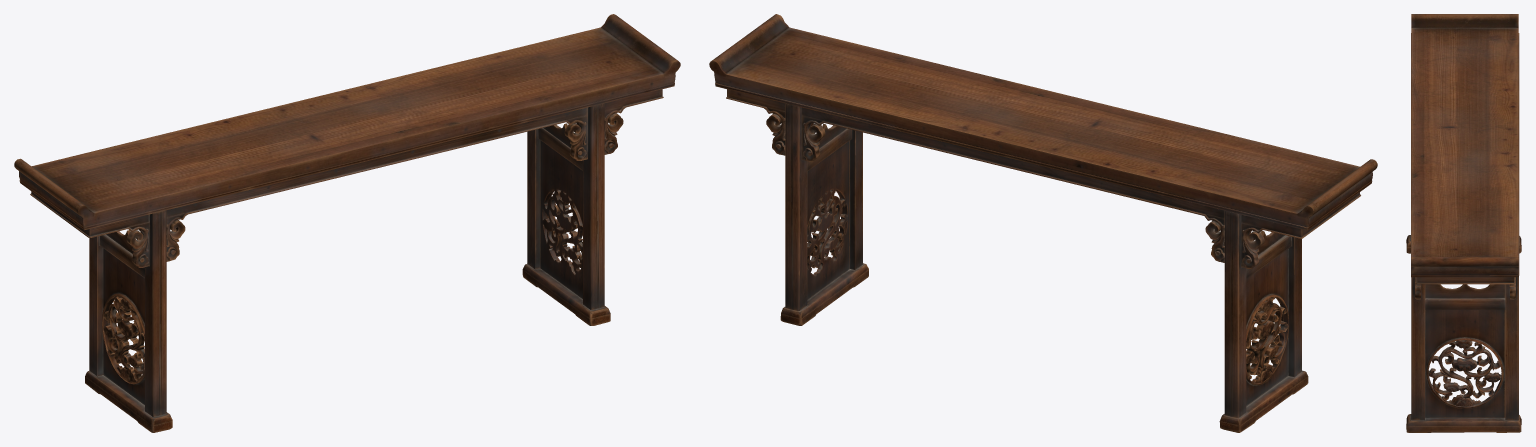
File: chinese_console_table.glb
3 views of the same model, side by side, from view 1: azimuth 30°, elevation 25°; view 2: azimuth 150°, elevation 25°; view 3: azimuth 270°, elevation 25° (orthographic). The views are drawn at different scales.
Visible parts, largest first — view 1: chinese_console_table; view 2: chinese_console_table; view 3: chinese_console_table.
Boxes of the visible parts, x1,y1,x2,y2 form: chinese_console_table: [14, 14, 680, 432]; chinese_console_table: [709, 14, 1377, 432]; chinese_console_table: [1406, 14, 1521, 432].
Bounding box in the file's own units: 1.72 × 0.6603 × 0.3387.
Materials: 1 (1 with a texture image).
